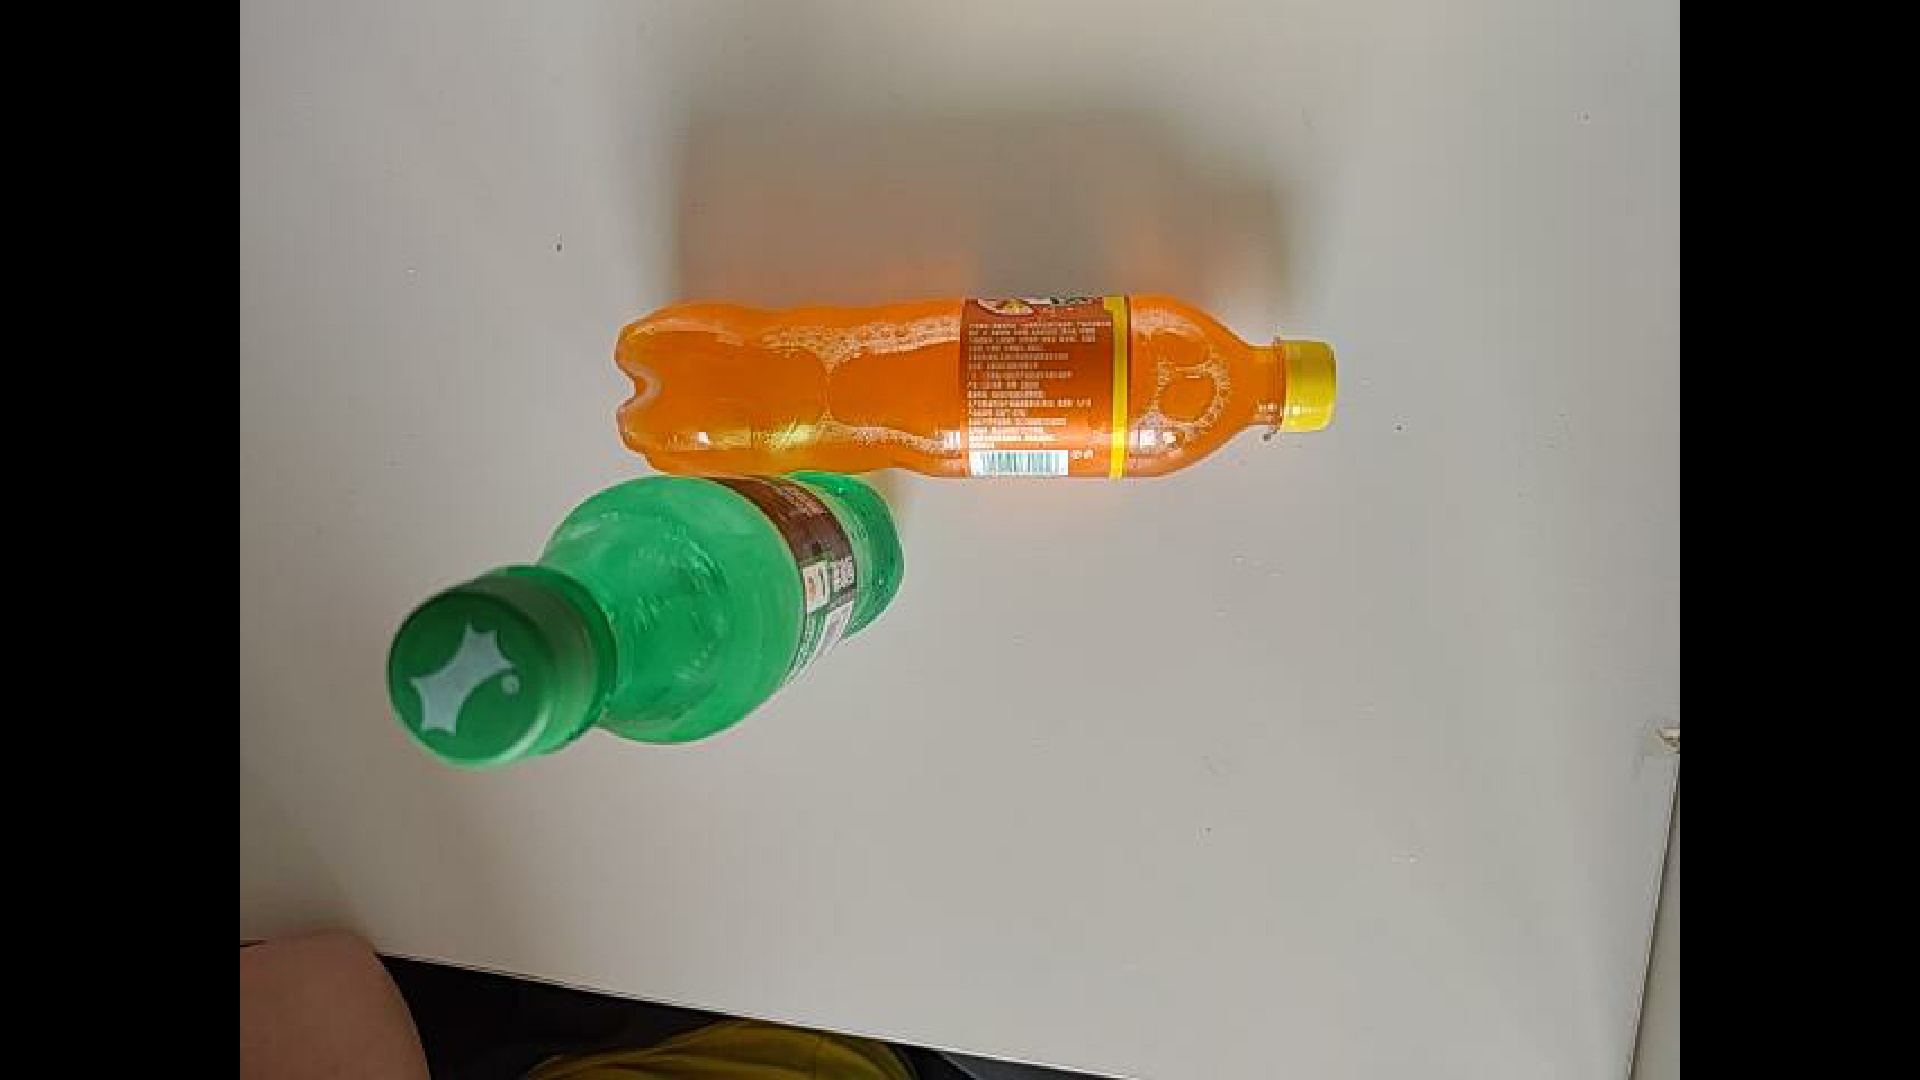fenta: (610, 294, 1340, 484)
sprite: (384, 470, 906, 771)
